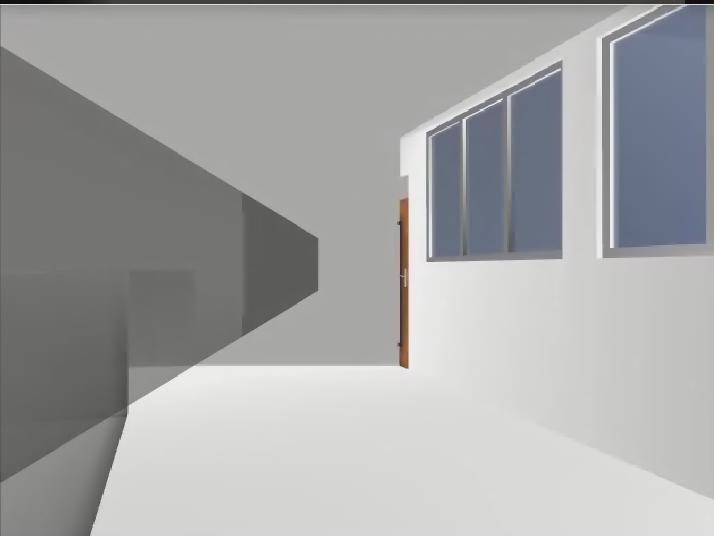door: (397, 197, 408, 370)
